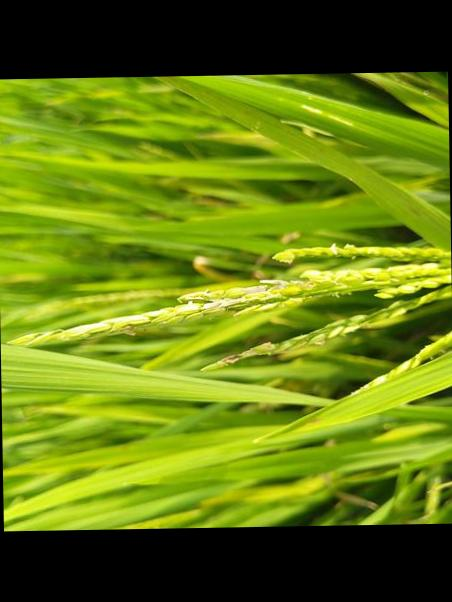Panicle Blight: (142, 298, 246, 321), (241, 279, 285, 290), (221, 354, 239, 361)
